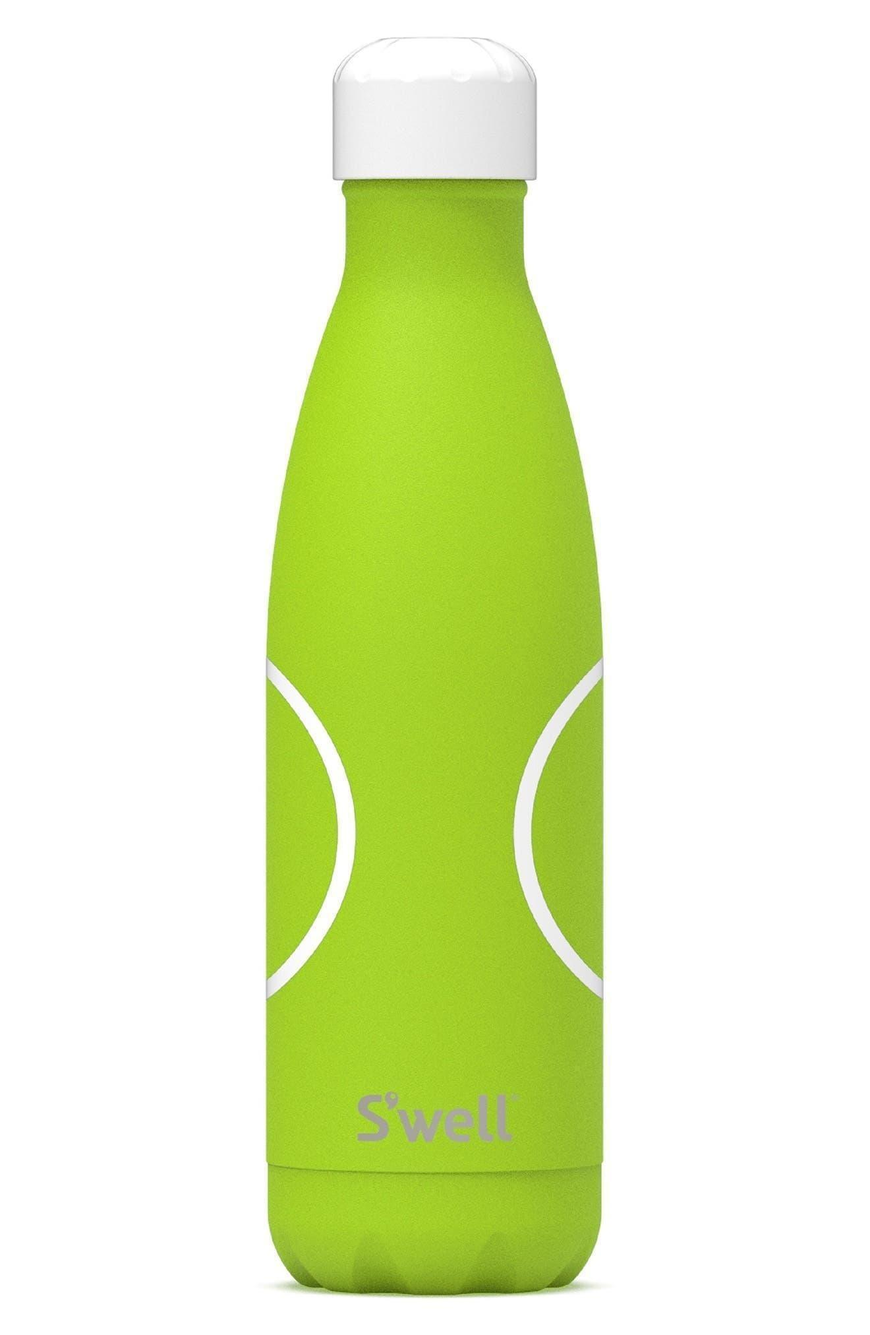gym bottle: (249, 22, 622, 1307)
